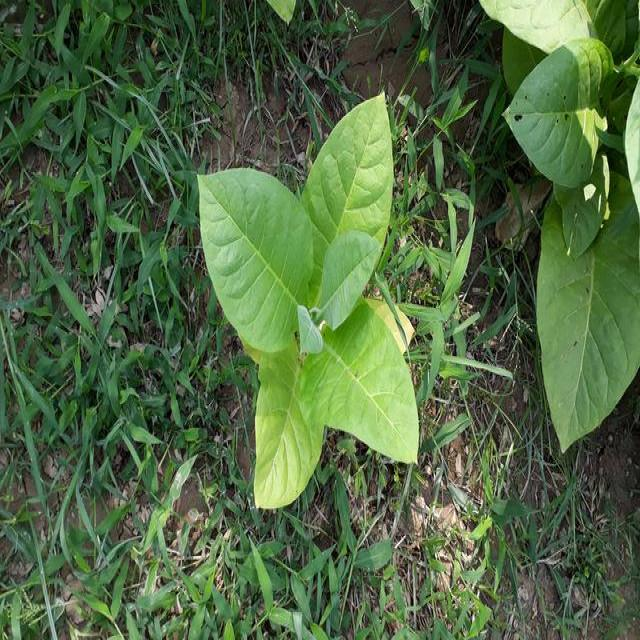crop: (189, 95, 433, 505)
